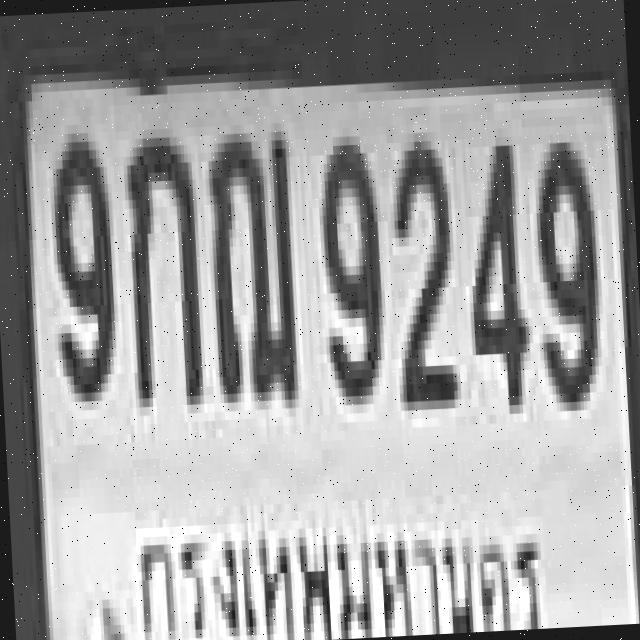10GorGai: (122, 124, 200, 395)
2: (386, 128, 454, 398)
21ChorChoe: (202, 118, 298, 399)
4: (461, 124, 526, 403)
9: (529, 128, 600, 400), (315, 128, 383, 398), (47, 124, 115, 394)
Bangkok: (115, 469, 550, 640)
